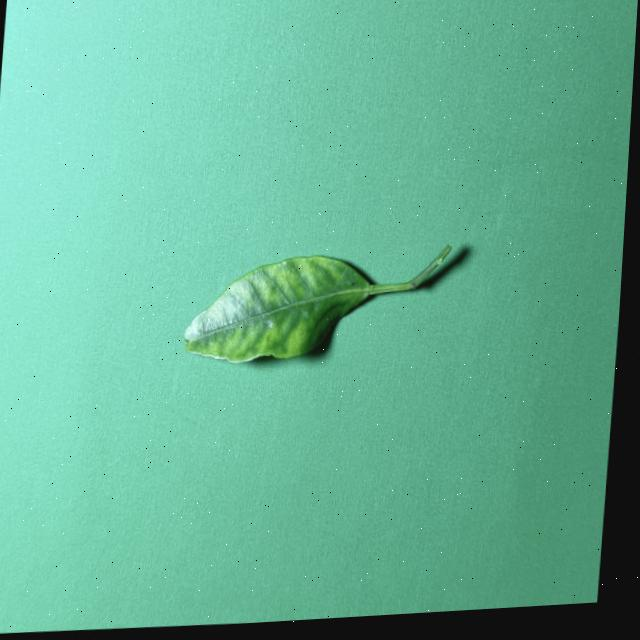greening: (183, 245, 449, 362)
